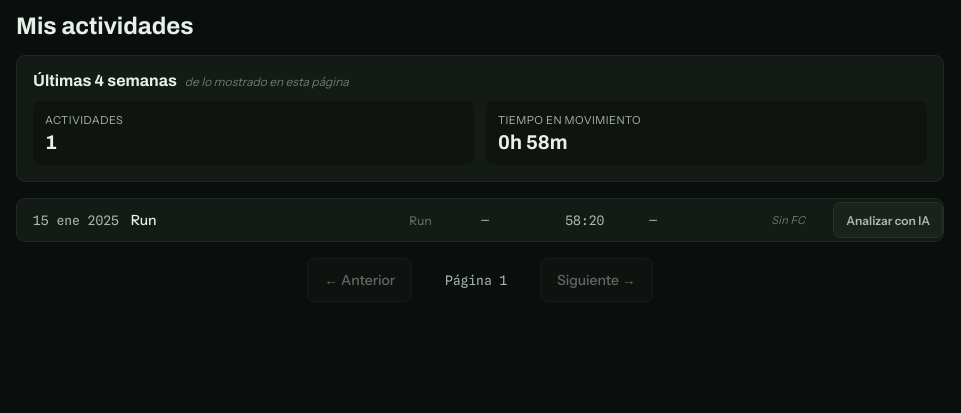
Test case: ActivityList › asks for the analysis of the selected activity when the AI is available
The image size is (961, 413).
Click the button with test id "activity-ai-trigger".
click(888, 220)  # box [833,202,943,238]
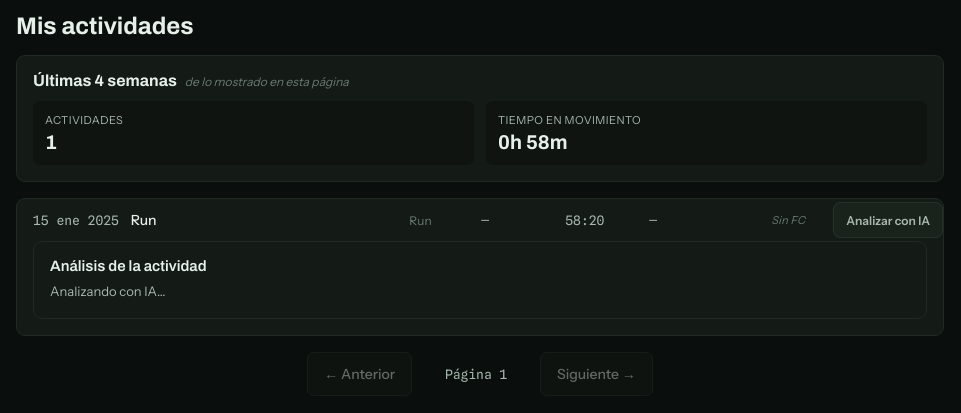
Result: the message "Analizando con IA…" is shown at [50,283,165,299]
